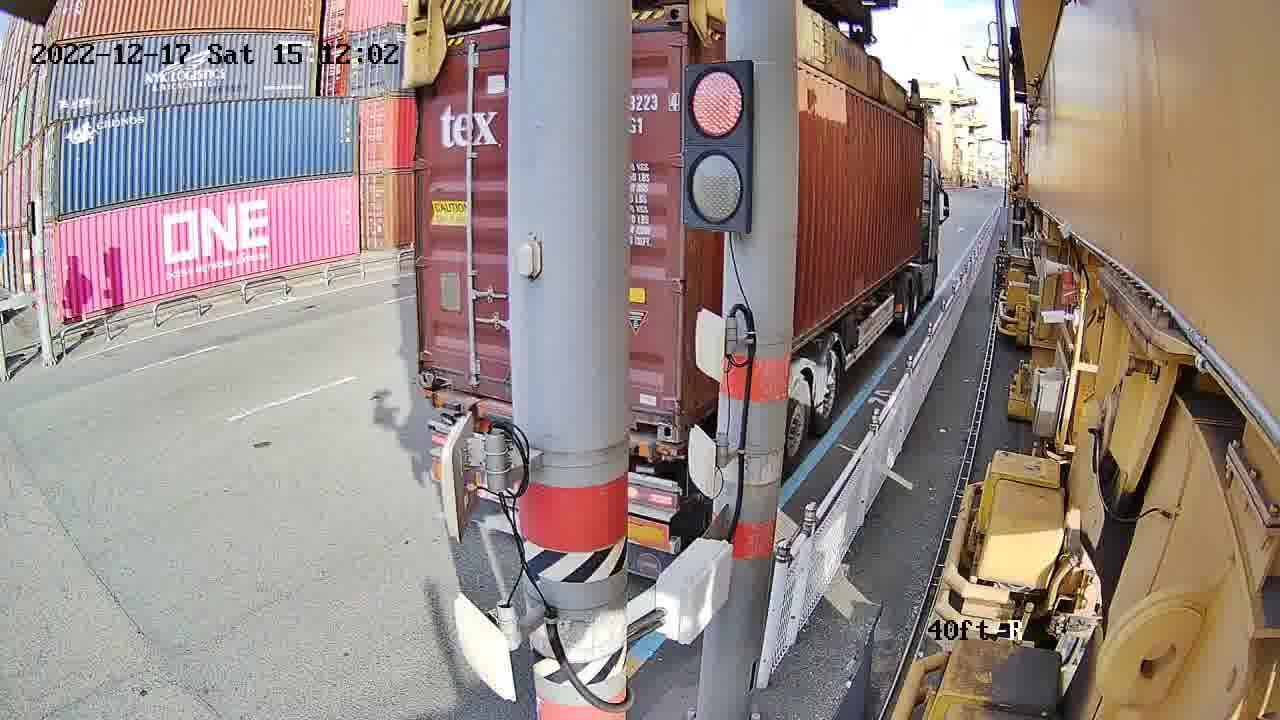Cone: (657, 445, 683, 464)
Hole_R: (634, 385, 679, 444)
